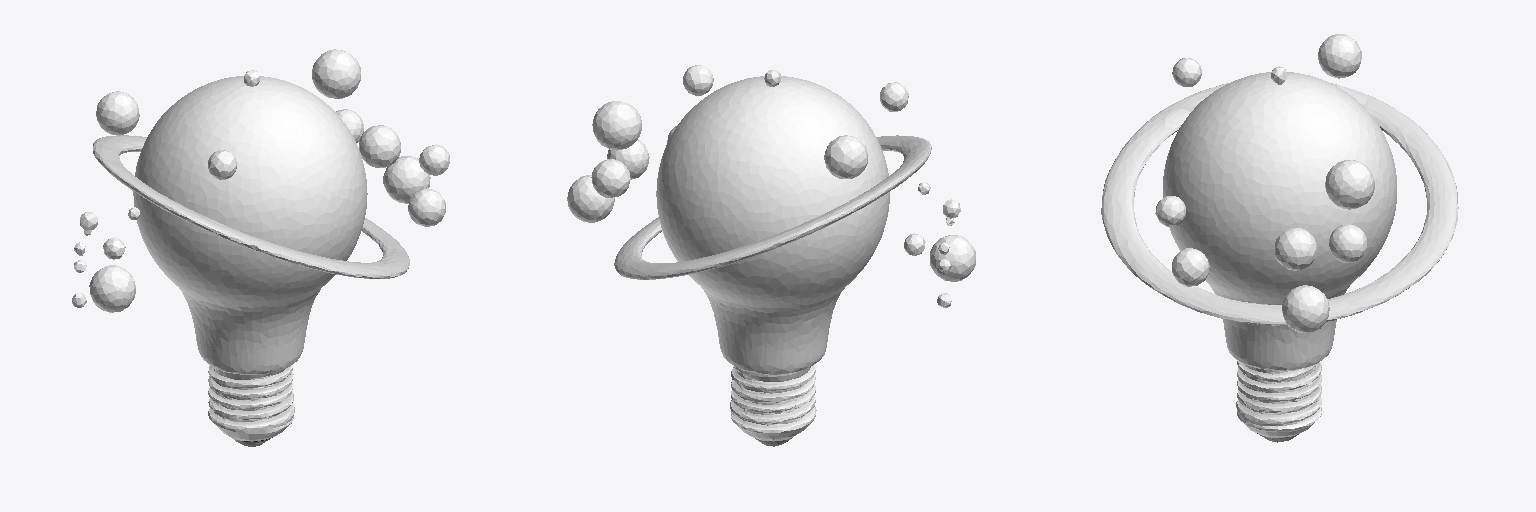
3 renders of one model, left to right at view 1: azimuth 30°, elevation 25°; view 2: azimuth 150°, elevation 25°; view 3: azimuth 270°, elevation 25°, orthographic.
Parts seen in each view (by area): view 1: symbolic_lightbulb_wi_[number redacted]_texture; view 2: symbolic_lightbulb_wi_[number redacted]_texture; view 3: symbolic_lightbulb_wi_[number redacted]_texture.
Part boxes in pixels (x1,y1,x2,y2): symbolic_lightbulb_wi_[number redacted]_texture: (72,49,449,446); symbolic_lightbulb_wi_[number redacted]_texture: (567,65,975,446); symbolic_lightbulb_wi_[number redacted]_texture: (1101,34,1458,442).
Size of the model in its own units: 2.01 by 1.94 by 1.68.
1 materials, 1 textured.